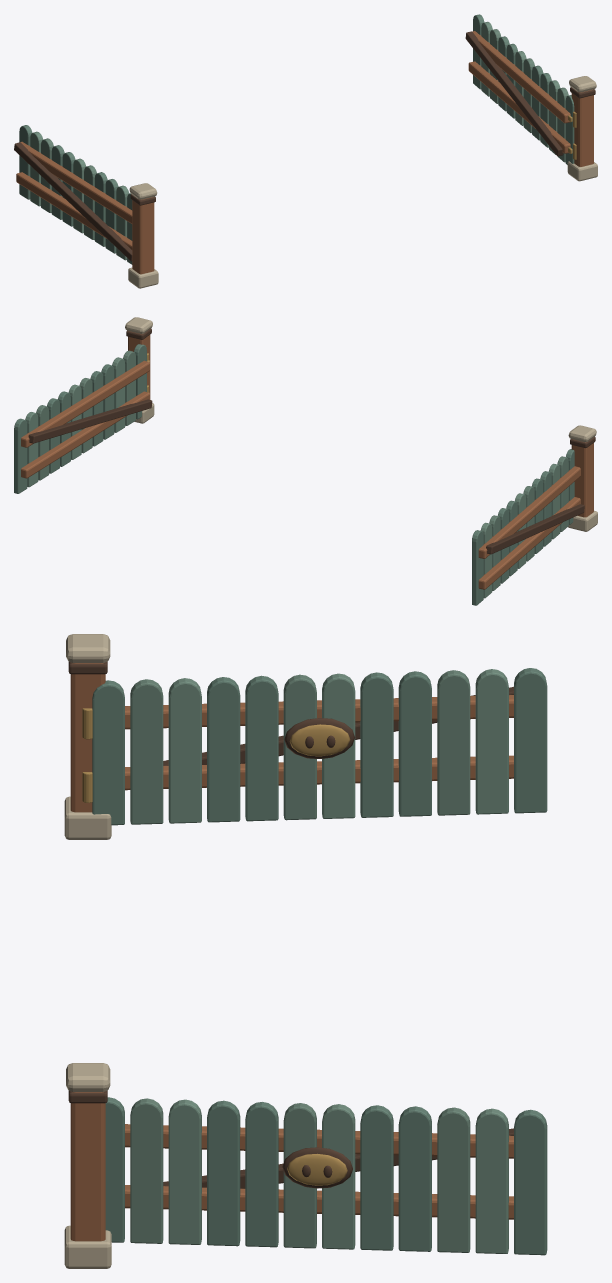
File: CV_Welcome_Gate_6m.glb
The picture shows the model from 3 angles, top to bottom: view 1: azimuth 30°, elevation 25°; view 2: azimuth 150°, elevation 25°; view 3: azimuth 270°, elevation 25°; orthographic projection. The views are drawn at different scales.
Visible parts, largest first — view 1: CV_Gate_Leaf, CV_Gate_Diagonal_Brace, CV_Left_Gate_Post_Cedar_Core, CV_Gate_Diagonal_Brace.001, CV_Gate_Leaf_Back_Rail.001, CV_Gate_Leaf_Back_Rail.003, CV_Right_Gate_Post_Cedar_Core, CV_Gate_Leaf_Back_Rail, CV_Gate_Leaf_Back_Rail.002, CV_Gate_Leaf_Picket_01.001, CV_Left_Gate_Post_Limestone_Foot, CV_Right_Gate_Post_Limestone_Foot (+3 smaller); view 2: CV_Gate_Leaf, CV_Gate_Leaf_Back_Rail.003, CV_Gate_Leaf_Back_Rail.001, CV_Gate_Leaf_Back_Rail.002, CV_Gate_Diagonal_Brace.001, CV_Gate_Leaf_Back_Rail, CV_Left_Gate_Post_Cedar_Core, CV_Gate_Diagonal_Brace, CV_Gate_Leaf_Picket_12.001, CV_Gate_Leaf_Picket_03.001, CV_Gate_Leaf_Picket_11.001, CV_Gate_Leaf_Picket_04.001 (+9 smaller); view 3: CV_Gate_Leaf, CV_Right_Gate_Post_Cedar_Core, CV_Gate_Leaf_Picket_02.001, CV_Gate_Leaf_Picket_10.001, CV_Gate_Leaf_Picket_08.001, CV_Gate_Leaf_Picket_05.001, CV_Gate_Leaf_Picket_03.001, CV_Gate_Leaf_Picket_09.001, CV_Gate_Leaf_Picket_11.001, CV_Gate_Leaf_Picket_12.001, CV_Gate_Leaf_Picket_04.001, CV_Gate_Leaf_Picket_07.001 (+15 smaller).
Part boxes in pixels (bbox=[...]): CV_Gate_Leaf: bbox=[19, 125, 132, 264]; CV_Gate_Diagonal_Brace: bbox=[14, 142, 132, 261]; CV_Left_Gate_Post_Cedar_Core: bbox=[132, 197, 154, 274]; CV_Gate_Diagonal_Brace.001: bbox=[465, 31, 563, 156]; CV_Gate_Leaf_Back_Rail.001: bbox=[20, 141, 132, 223]; CV_Gate_Leaf_Back_Rail.003: bbox=[472, 31, 570, 123]; CV_Right_Gate_Post_Cedar_Core: bbox=[571, 89, 593, 166]; CV_Gate_Leaf_Back_Rail: bbox=[16, 172, 132, 249]; CV_Gate_Leaf_Back_Rail.002: bbox=[468, 61, 570, 153]; CV_Gate_Leaf_Picket_01.001: bbox=[565, 95, 574, 164]; CV_Left_Gate_Post_Limestone_Foot: bbox=[128, 267, 158, 288]; CV_Right_Gate_Post_Limestone_Foot: bbox=[567, 161, 597, 181]; CV_Gate_Leaf: bbox=[472, 449, 574, 605]; CV_Gate_Leaf_Back_Rail.003: bbox=[21, 360, 149, 447]; CV_Gate_Leaf_Back_Rail.001: bbox=[478, 466, 580, 558]; CV_Gate_Leaf_Back_Rail.002: bbox=[21, 391, 149, 478]; CV_Gate_Diagonal_Brace.001: bbox=[28, 399, 152, 443]; CV_Gate_Leaf_Back_Rail: bbox=[478, 497, 580, 589]; CV_Left_Gate_Post_Cedar_Core: bbox=[571, 439, 593, 517]; CV_Gate_Diagonal_Brace: bbox=[486, 504, 584, 554]; CV_Gate_Leaf_Picket_12.001: bbox=[14, 418, 27, 493]; CV_Gate_Leaf_Picket_03.001: bbox=[112, 357, 125, 432]; CV_Gate_Leaf_Picket_11.001: bbox=[25, 412, 38, 487]; CV_Gate_Leaf_Picket_04.001: bbox=[101, 364, 114, 439]; CV_Gate_Leaf: bbox=[92, 668, 547, 825]; CV_Right_Gate_Post_Cedar_Core: bbox=[70, 1091, 105, 1241]; CV_Gate_Leaf_Picket_02.001: bbox=[130, 1098, 163, 1243]; CV_Gate_Leaf_Picket_10.001: bbox=[437, 1107, 470, 1252]; CV_Gate_Leaf_Picket_08.001: bbox=[360, 1105, 393, 1250]; CV_Gate_Leaf_Picket_05.001: bbox=[245, 1102, 278, 1247]; CV_Gate_Leaf_Picket_03.001: bbox=[168, 1099, 201, 1244]; CV_Gate_Leaf_Picket_09.001: bbox=[398, 1106, 431, 1251]; CV_Gate_Leaf_Picket_11.001: bbox=[475, 1108, 508, 1253]; CV_Gate_Leaf_Picket_12.001: bbox=[514, 1109, 547, 1255]; CV_Gate_Leaf_Picket_04.001: bbox=[207, 1100, 240, 1246]; CV_Gate_Leaf_Picket_07.001: bbox=[322, 1104, 355, 1249].
Size of the model in its own units: 6.96 by 1.35 by 3.09.
